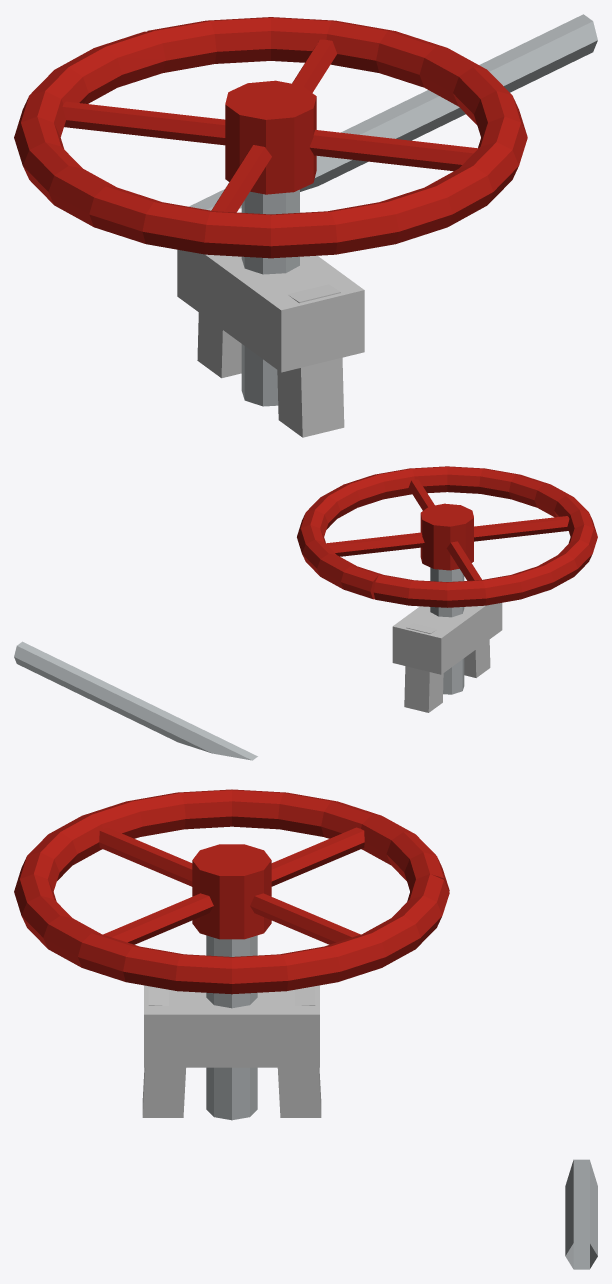
File: cell_85.obj
3 views of the same model, one above another, from view 1: azimuth 30°, elevation 25°; view 2: azimuth 150°, elevation 25°; view 3: azimuth 270°, elevation 25° (orthographic). The views are drawn at different scales.
Size of the model in its own units: 0.627 by 0.236 by 0.501.
